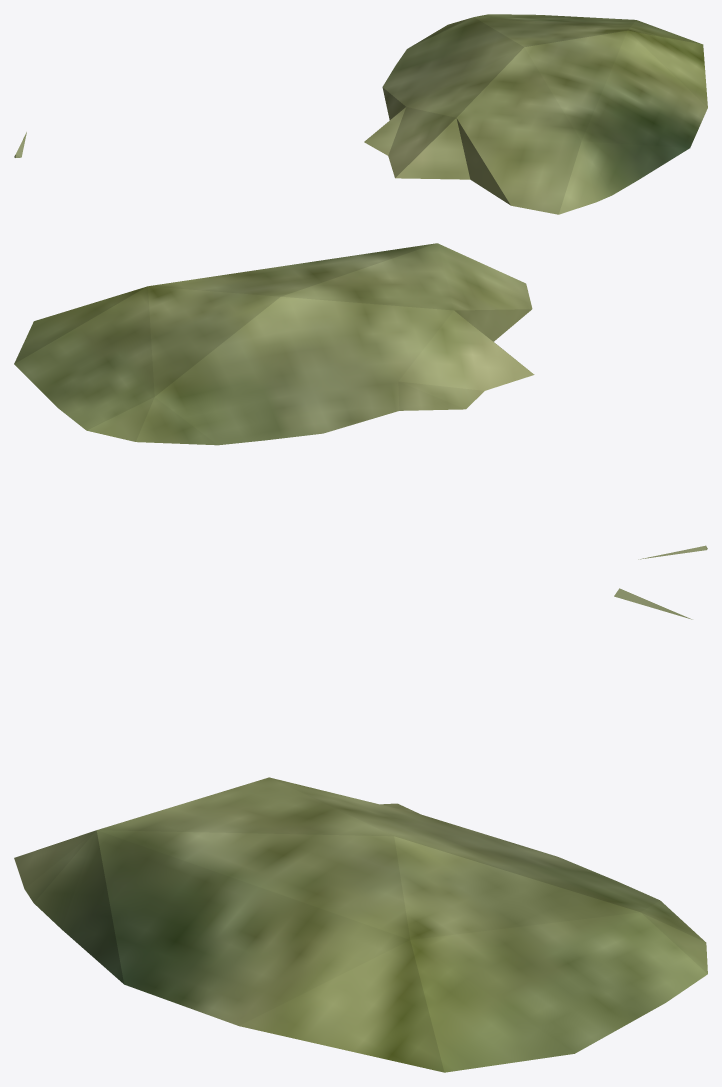
The picture shows the model from 3 angles, top to bottom: view 1: azimuth 30°, elevation 25°; view 2: azimuth 150°, elevation 25°; view 3: azimuth 270°, elevation 25°; orthographic projection. The views are drawn at different scales.
Size of the model in its own units: 11.01 by 0.9437 by 6.72.
1 material, 1 textured.
